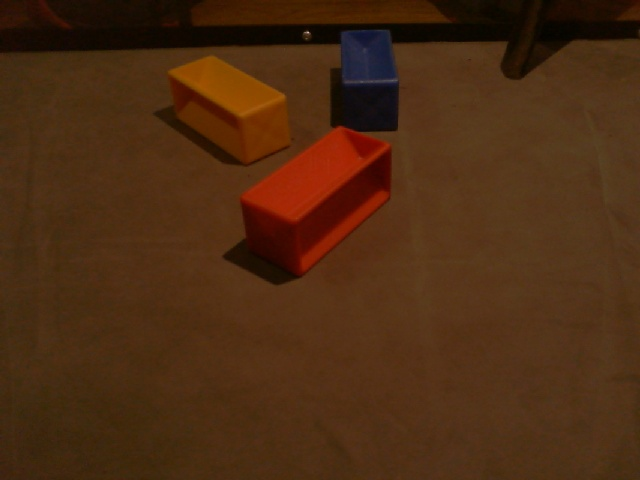BlueSample: (339, 29, 400, 131)
RedSample: (236, 123, 395, 275)
YellowSample: (164, 53, 292, 167)
